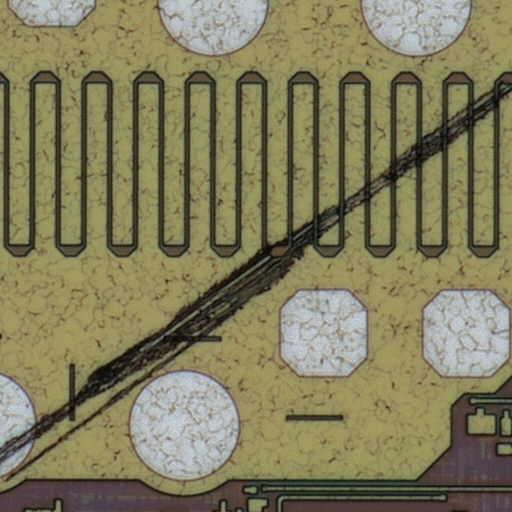SCRATCH: (1, 71, 512, 492)
